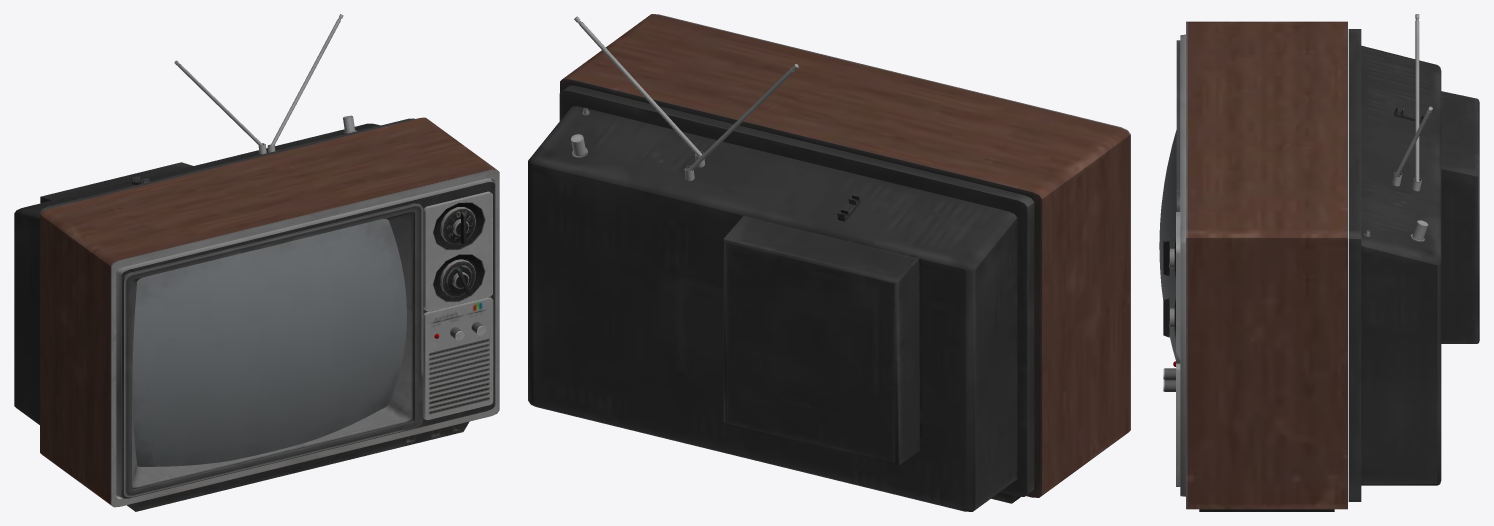
Rendered from tvC.glb.
3 views of the same model, side by side, from view 1: azimuth 30°, elevation 25°; view 2: azimuth 150°, elevation 25°; view 3: azimuth 270°, elevation 25° (orthographic). The views are drawn at different scales.
Parts seen in each view (by area): view 1: TV_TV_0; view 2: TV_TV_0; view 3: TV_TV_0.
Boxes of the visible parts, x1,y1,x2,y2 form: TV_TV_0: [14, 14, 499, 511]; TV_TV_0: [528, 14, 1130, 511]; TV_TV_0: [1159, 14, 1479, 511].
Bounding box in the file's own units: 424 × 363 × 267.
Materials: 1 (1 with a texture image).
